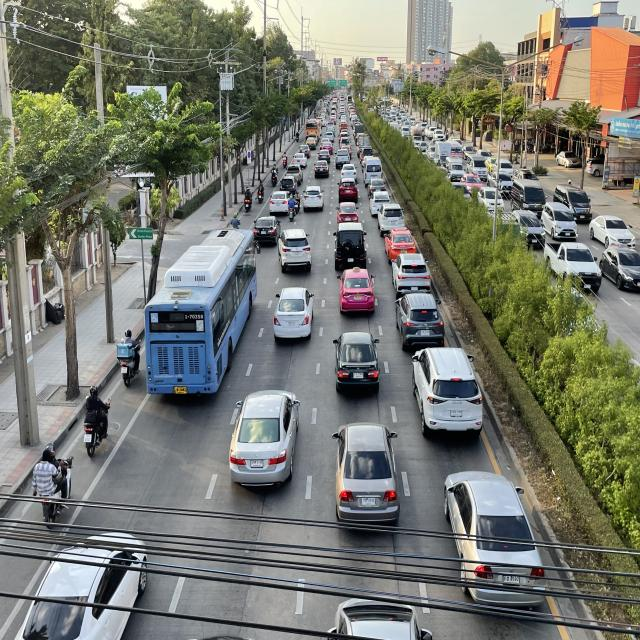bike: (33, 434, 75, 531), (81, 377, 112, 464), (115, 322, 142, 393)
bus: (141, 222, 261, 400)
